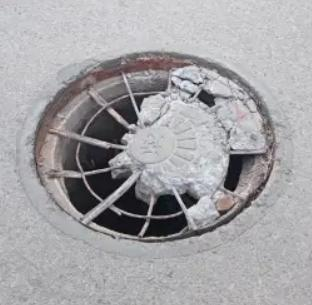wellcover: (14, 47, 289, 252)
